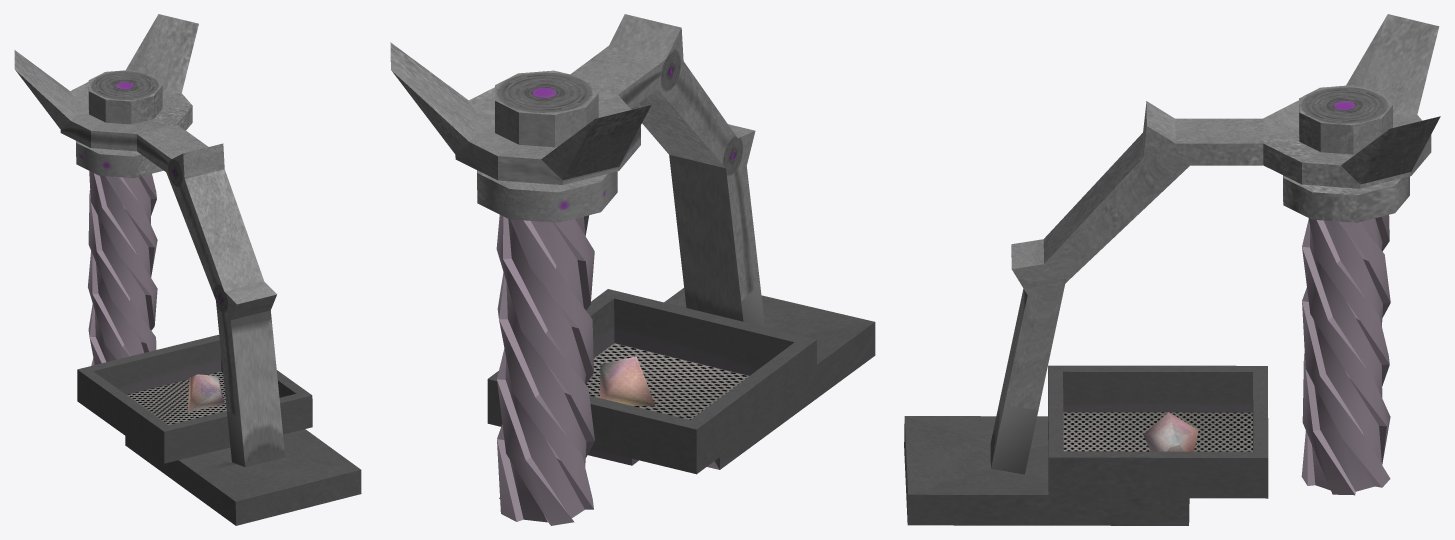
The model's file is MineraalBoor.FBX.
3 views of the same model, side by side, from view 1: azimuth 30°, elevation 25°; view 2: azimuth 150°, elevation 25°; view 3: azimuth 270°, elevation 25° (orthographic). The views are drawn at different scales.
Parts seen in each view (by area): view 1: MineraalBoor, Drilboor, Mineraal; view 2: MineraalBoor, Drilboor, Mineraal; view 3: MineraalBoor, Drilboor, Mineraal.
Boxes of the visible parts, x1,y1,x2,y2 form: MineraalBoor: (14,14,361,525); Drilboor: (88,171,157,365); Mineraal: (187,374,224,412); MineraalBoor: (390,14,875,474); Drilboor: (496,215,594,525); Mineraal: (599,356,655,406); MineraalBoor: (904,14,1440,525); Drilboor: (1301,215,1390,495); Mineraal: (1143,412,1198,451).
Bounding box in the file's own units: 99.69 × 168 × 197.
3 materials, 2 textured.
